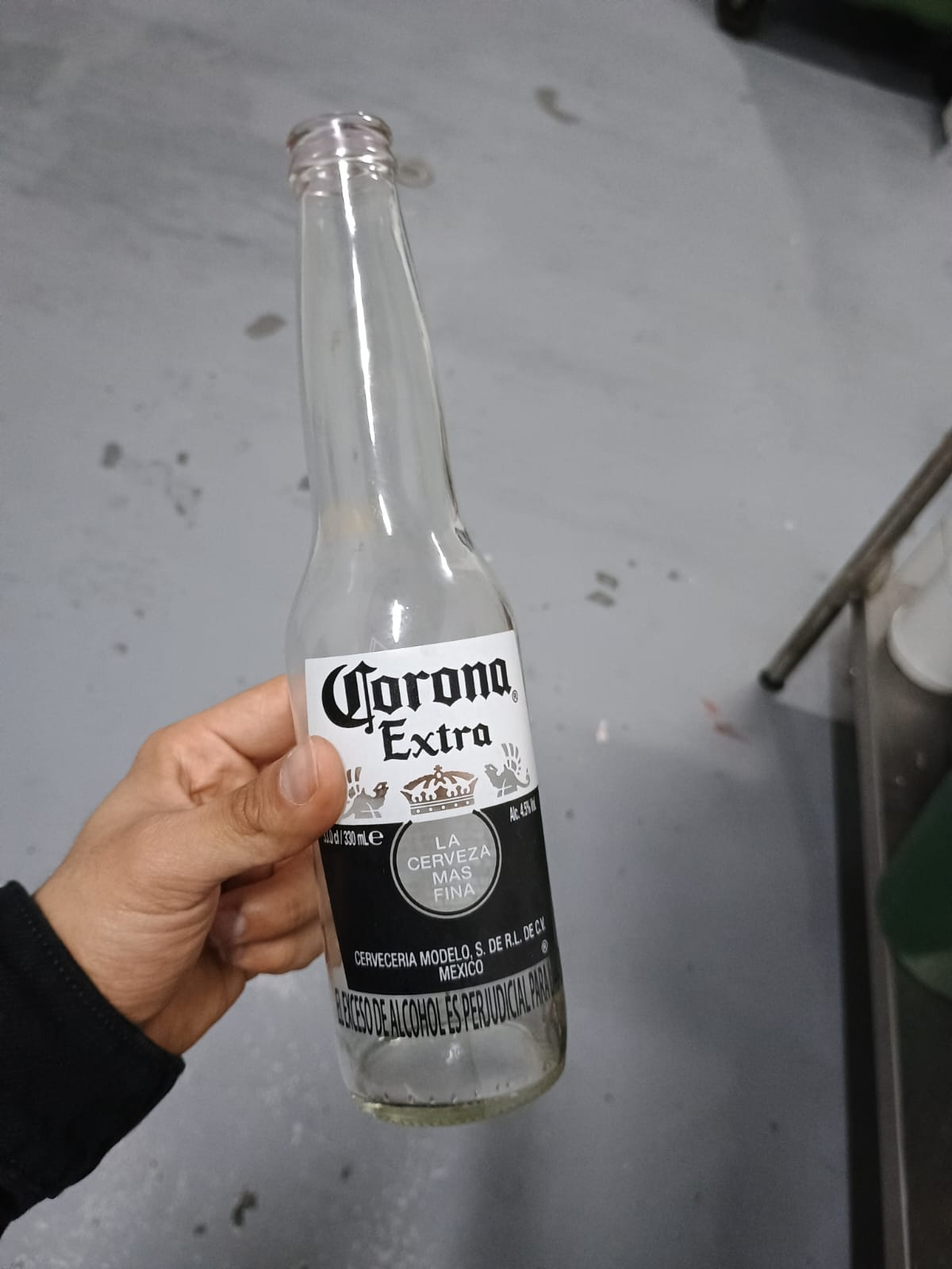Vidrio: (276, 113, 572, 1124)
